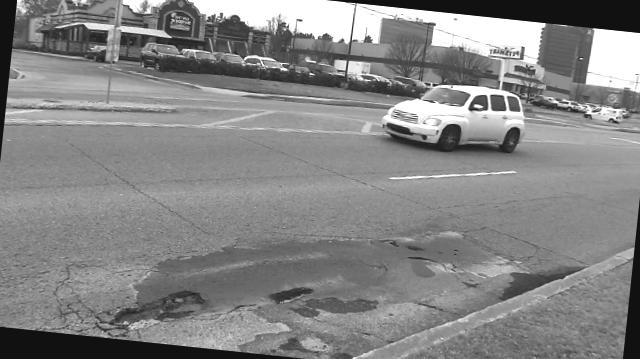Pothole: (107, 280, 212, 340), (268, 267, 322, 315)
